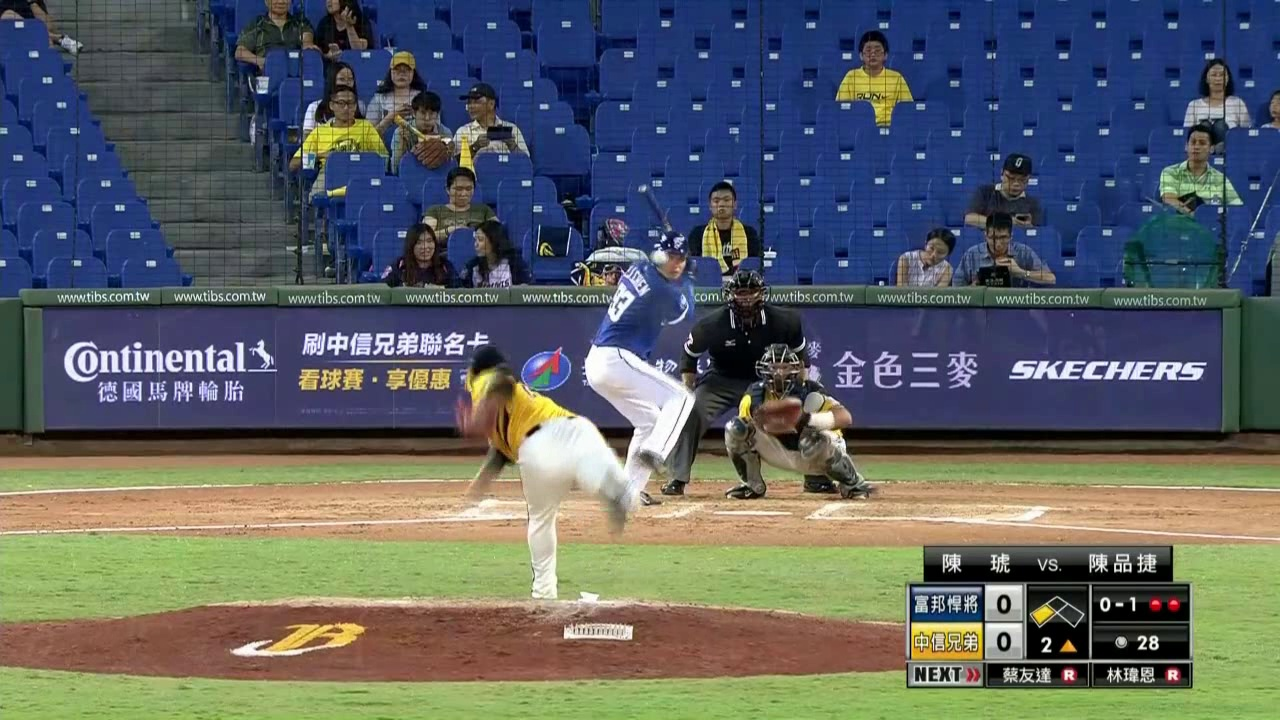ball: (647, 247, 669, 266)
base: (1027, 591, 1086, 632)
bat: (633, 182, 681, 236)
out: (1147, 590, 1187, 620)
score1: (986, 584, 1022, 619)
score2: (986, 625, 1020, 656)
session: (1030, 634, 1089, 657)
strikeball: (1095, 589, 1139, 618)
total: (1093, 628, 1186, 655)
